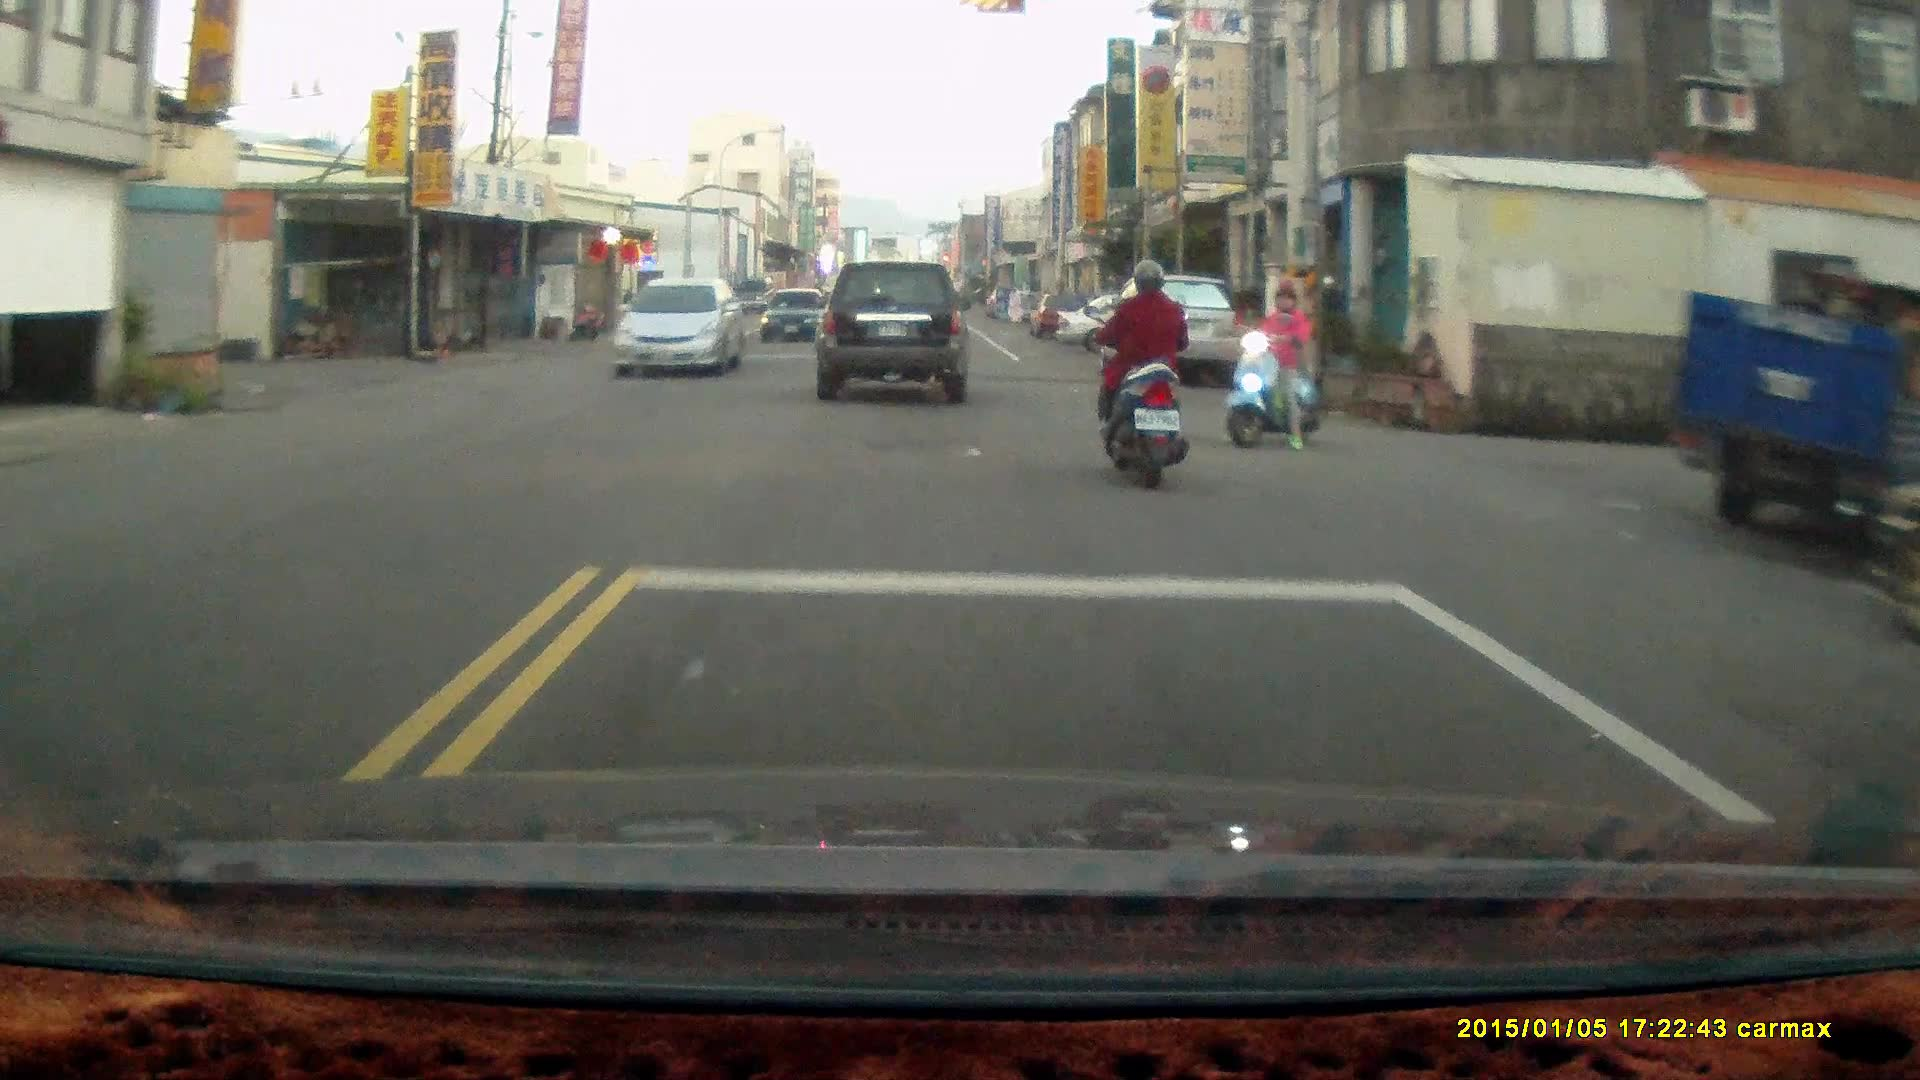rider: (1098, 254, 1188, 492), (1223, 271, 1326, 452)
vehicle: (1669, 248, 1920, 557), (815, 255, 978, 403), (1103, 275, 1250, 388), (606, 278, 750, 376), (760, 287, 828, 345)
